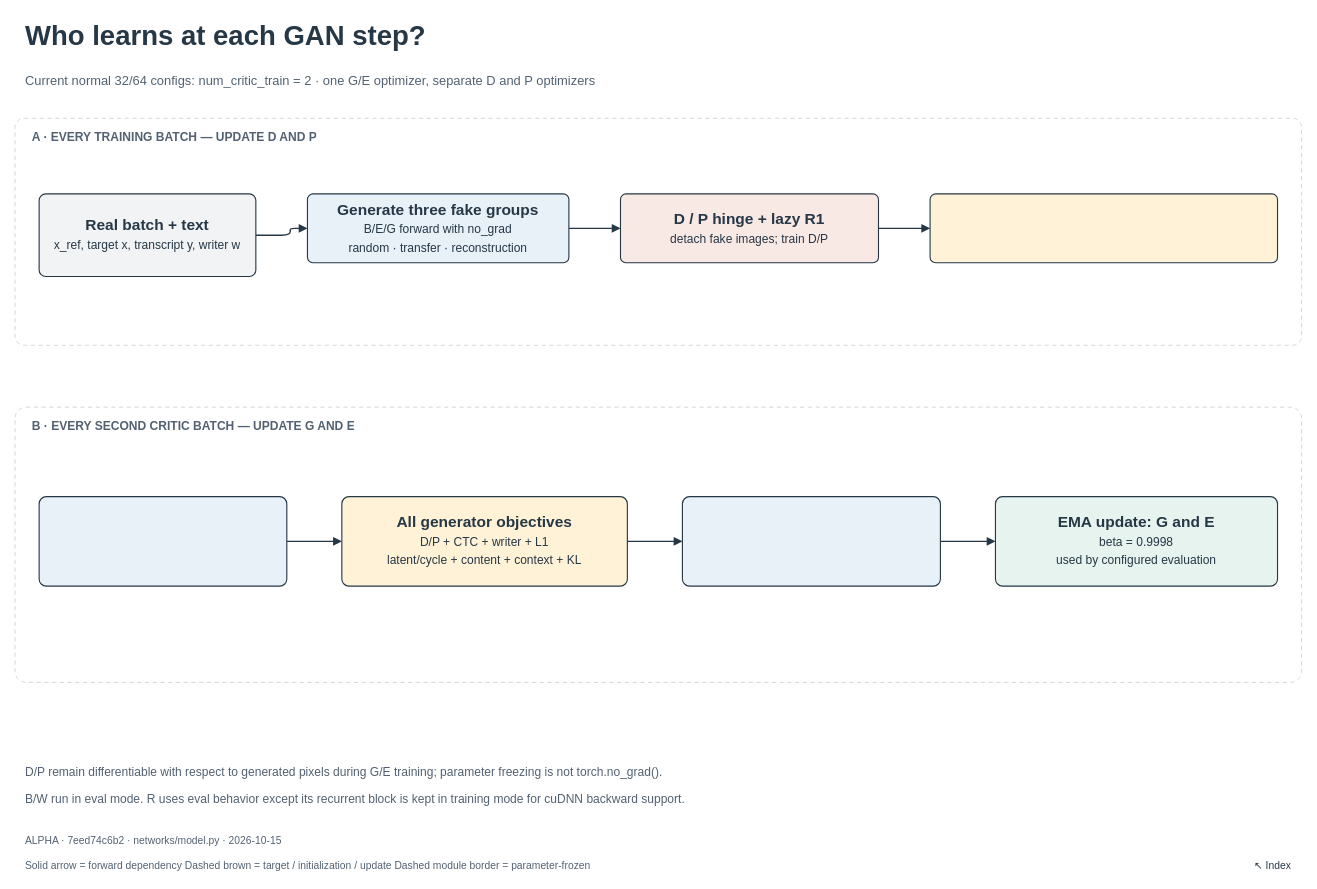
This 1317x889 diagram has some shape labels left out. Here are the shapes that lost their labels. From the top down, the centre of each, then its label:
[1103,228]: Adam step: D and P G/E are not updated by this phase
[162,541]: Regenerate with autograd G + E trainable B/R/W/D/P parameter-frozen
[811,541]: Adam step: G and E gradients through frozen teachers
